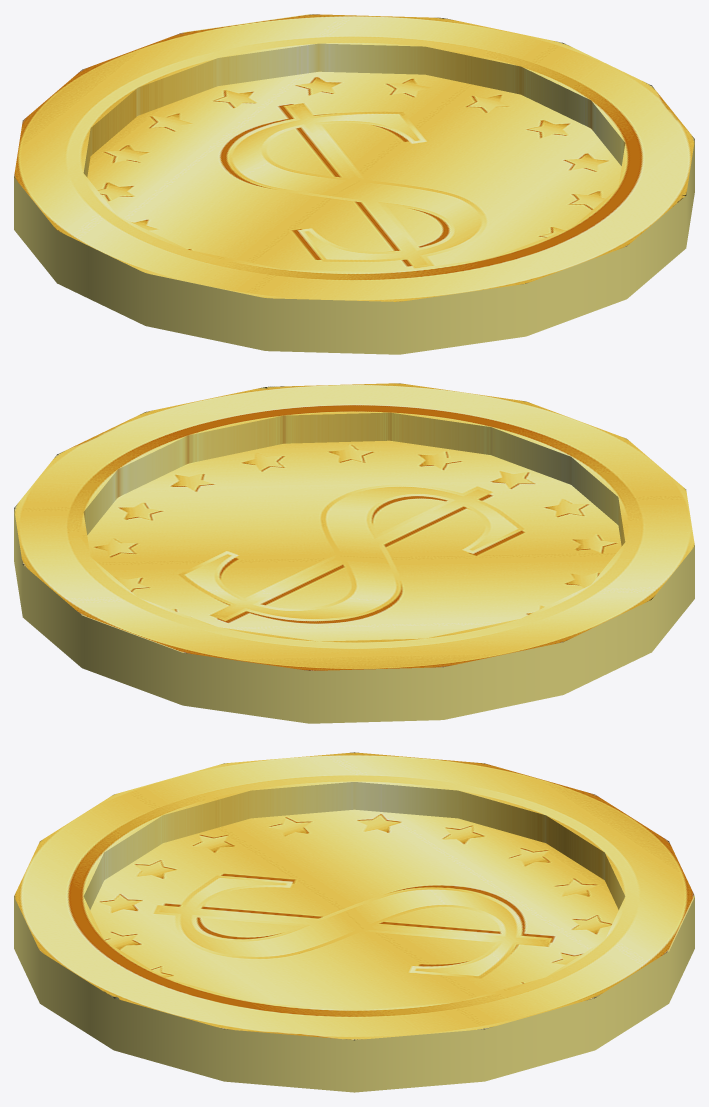
File: cion.fbx
3 views of the same model, one above another, from view 1: azimuth 30°, elevation 25°; view 2: azimuth 150°, elevation 25°; view 3: azimuth 270°, elevation 25° (orthographic).
Parts seen in each view (by area): view 1: Cylinder.001; view 2: Cylinder.001; view 3: Cylinder.001.
Boxes of the visible parts, x1=… form: Cylinder.001: x1=14, y1=14, x2=694, y2=354; Cylinder.001: x1=14, y1=383, x2=694, y2=723; Cylinder.001: x1=14, y1=752, x2=694, y2=1092.
Size of the model in its own units: 2 by 0.1696 by 2.
1 material, 1 textured.
